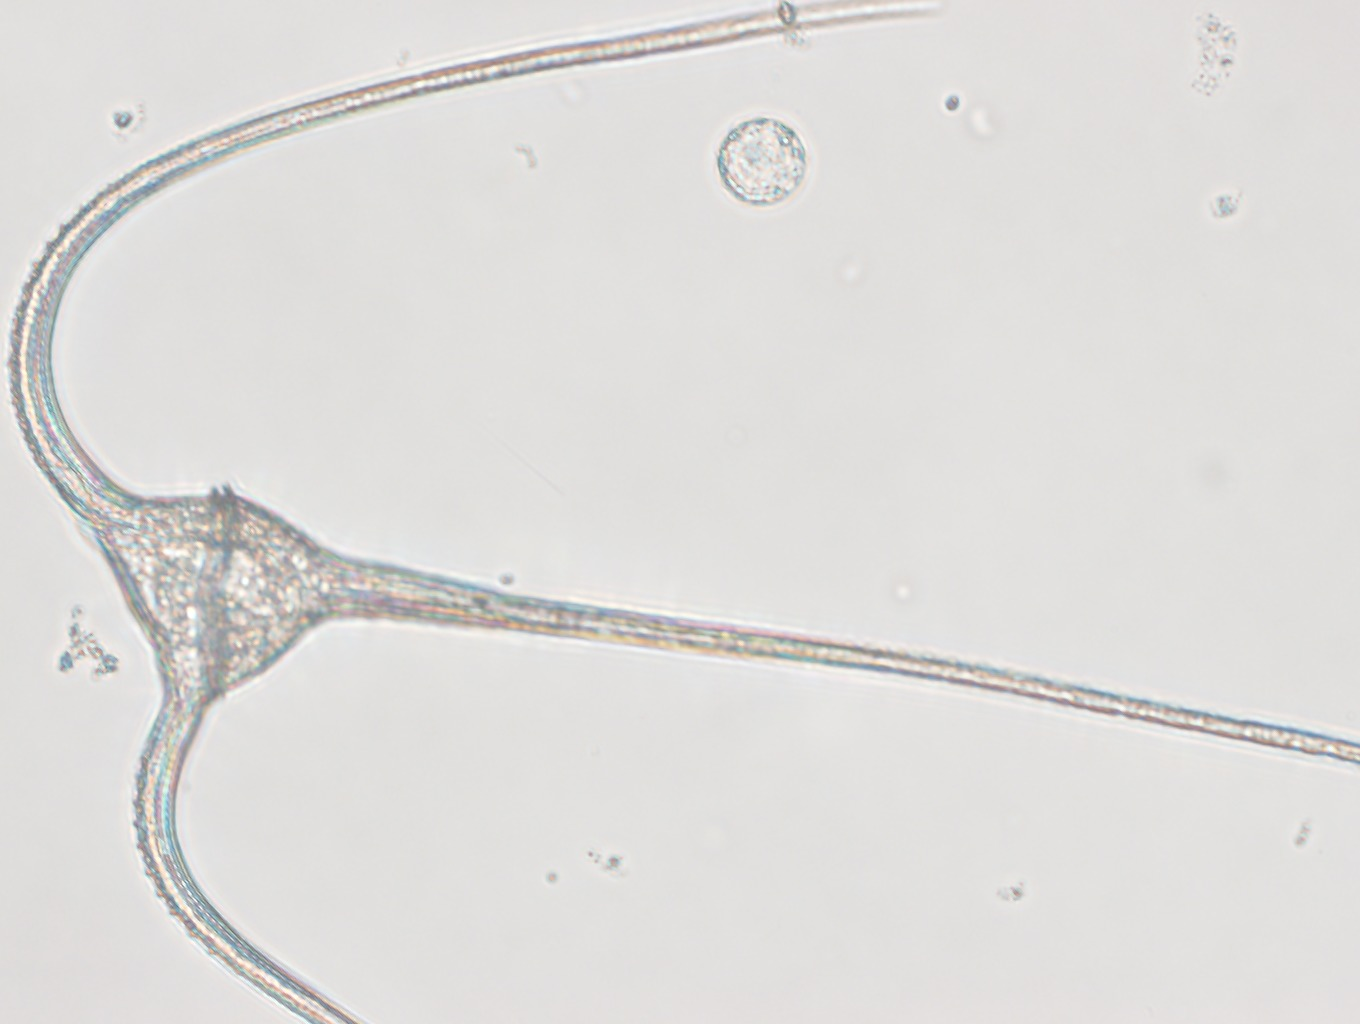ceratium trichoceros: (6, 1, 1360, 1024)
